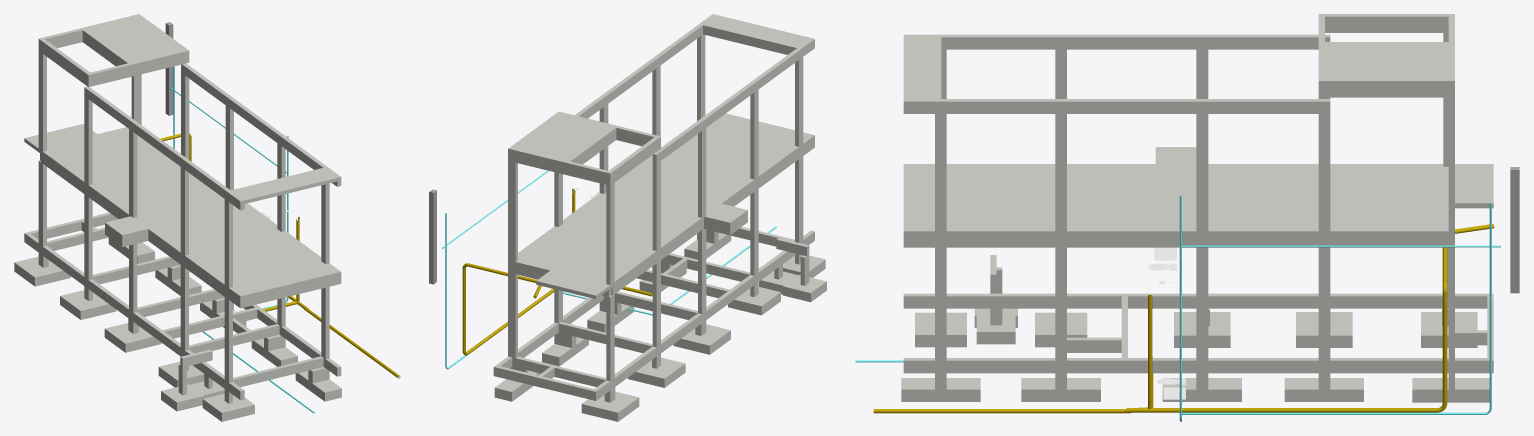
File: ESCRITÓRIO-hidro térreo-04.glb
3 renders of one model, left to right at view 1: azimuth 30°, elevation 25°; view 2: azimuth 150°, elevation 25°; view 3: azimuth 270°, elevation 25°, orthographic. The views are drawn at different scales.
Parts seen in each view (by area): view 1: Geom3D_Componente155 (×8), Geom3D_Componente140 (×6), Geom3D_0JLA9sUEz499R5ba$6f8ua_Pano 11 (12 cm), Geom3D_3gWO_jqfL89h9gXVSFt0F7_Pano 3 (12 cm), Geom3D_Componente134 (×3), Geom3D_Componente148 (×2), Geom3D_Componente135 (×3), Geom3D_Componente136 (×3), Geom3D_Componente143 (×3), Geom3D_Componente141 (×2), Geom3D_Componente147 (×3), Geom3D_Componente137 (×2) (+32 smaller); view 2: Geom3D_Componente155 (×8), Geom3D_Componente140 (×5), Geom3D_Componente135 (×4), Geom3D_3gWO_jqfL89h9gXVSFt0F7_Pano 3 (12 cm), Geom3D_Componente134 (×3), Geom3D_0JLA9sUEz499R5ba$6f8ua_Pano 11 (12 cm), Geom3D_0abxpV67rCov4QmU8LKPdB_Pano 4 (12 cm), Geom3D_Componente144 (×2), Geom3D_Componente136 (×3), Geom3D_Componente141 (×2), Geom3D_Componente143 (×3), Geom3D_Componente152 (×2) (+36 smaller); view 3: Geom3D_Componente143 (×4), Geom3D_3gWO_jqfL89h9gXVSFt0F7_Pano 3 (12 cm), Geom3D_0JLA9sUEz499R5ba$6f8ua_Pano 11 (12 cm), Geom3D_Componente145 (×3), Geom3D_Componente136 (×4), Geom3D_Componente155 (×5), Geom3D_Componente147 (×3), Geom3D_Componente140 (×4), Geom3D_Componente139 (×2), Geom3D, Geom3D_Componente134 (×3), Geom3D_0abxpV67rCov4QmU8LKPdB_Pano 4 (12 cm) (+33 smaller).
Boxes of the visible parts, bbox=[...] form: Geom3D_Componente155 (×8): bbox=[84, 73, 329, 287]; Geom3D_Componente140 (×6): bbox=[38, 160, 329, 382]; Geom3D_0JLA9sUEz499R5ba$6f8ua_Pano 11 (12 cm): bbox=[189, 230, 320, 282]; Geom3D_3gWO_jqfL89h9gXVSFt0F7_Pano 3 (12 cm): bbox=[92, 162, 218, 214]; Geom3D_Componente134 (×3): bbox=[14, 256, 161, 352]; Geom3D_Componente148 (×2): bbox=[86, 49, 340, 308]; Geom3D_Componente135 (×3): bbox=[24, 212, 323, 389]; Geom3D_Componente136 (×3): bbox=[155, 268, 341, 401]; Geom3D_Componente143 (×3): bbox=[84, 63, 229, 317]; Geom3D_Componente141 (×2): bbox=[130, 289, 279, 353]; Geom3D_Componente147 (×3): bbox=[180, 134, 325, 367]; Geom3D_Componente137 (×2): bbox=[158, 361, 254, 421]; Geom3D_Componente155 (×8): bbox=[554, 34, 803, 250]; Geom3D_Componente140 (×5): bbox=[606, 156, 803, 381]; Geom3D_Componente135 (×4): bbox=[495, 23, 801, 400]; Geom3D_3gWO_jqfL89h9gXVSFt0F7_Pano 3 (12 cm): bbox=[561, 193, 697, 247]; Geom3D_Componente134 (×3): bbox=[581, 324, 730, 421]; Geom3D_0JLA9sUEz499R5ba$6f8ua_Pano 11 (12 cm): bbox=[668, 125, 794, 175]; Geom3D_0abxpV67rCov4QmU8LKPdB_Pano 4 (12 cm): bbox=[518, 227, 606, 271]; Geom3D_Componente144 (×2): bbox=[512, 322, 652, 387]; Geom3D_Componente136 (×3): bbox=[542, 233, 731, 366]; Geom3D_Componente141 (×2): bbox=[604, 253, 754, 322]; Geom3D_Componente143 (×3): bbox=[561, 119, 706, 352]; Geom3D_Componente152 (×2): bbox=[609, 136, 660, 295]; Geom3D_Componente143 (×4): bbox=[1196, 34, 1330, 373]; Geom3D_3gWO_jqfL89h9gXVSFt0F7_Pano 3 (12 cm): bbox=[1208, 166, 1318, 228]; Geom3D_0JLA9sUEz499R5ba$6f8ua_Pano 11 (12 cm): bbox=[946, 166, 1055, 228]; Geom3D_Componente145 (×3): bbox=[1055, 34, 1208, 373]; Geom3D_Componente136 (×4): bbox=[901, 378, 1363, 401]; Geom3D_Componente155 (×5): bbox=[935, 49, 1330, 231]; Geom3D_Componente147 (×3): bbox=[935, 34, 1066, 373]; Geom3D_Componente140 (×4): bbox=[935, 247, 1330, 360]; Geom3D_Componente139 (×2): bbox=[1318, 78, 1454, 247]; Geom3D: bbox=[873, 224, 1494, 413]; Geom3D_Componente134 (×3): bbox=[1174, 312, 1477, 347]; Geom3D_0abxpV67rCov4QmU8LKPdB_Pano 4 (12 cm): bbox=[1330, 194, 1448, 228].
Size of the model in its own units: 6.69 by 7.82 by 14.63.
